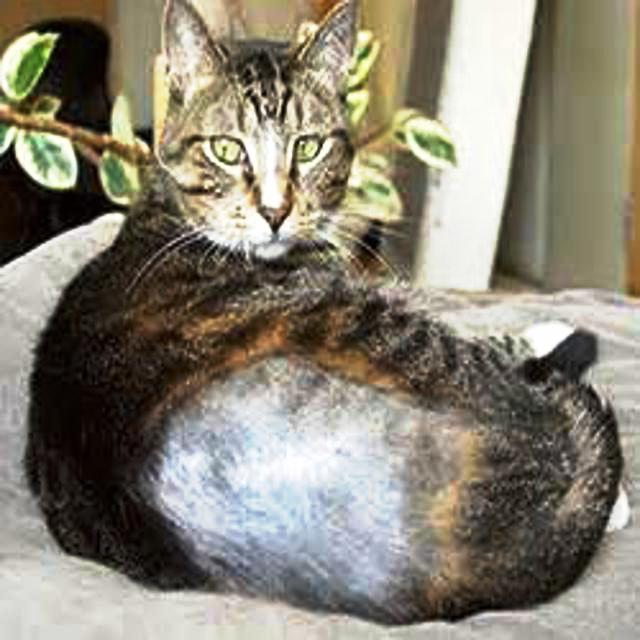hairloss: (159, 372, 466, 595)
